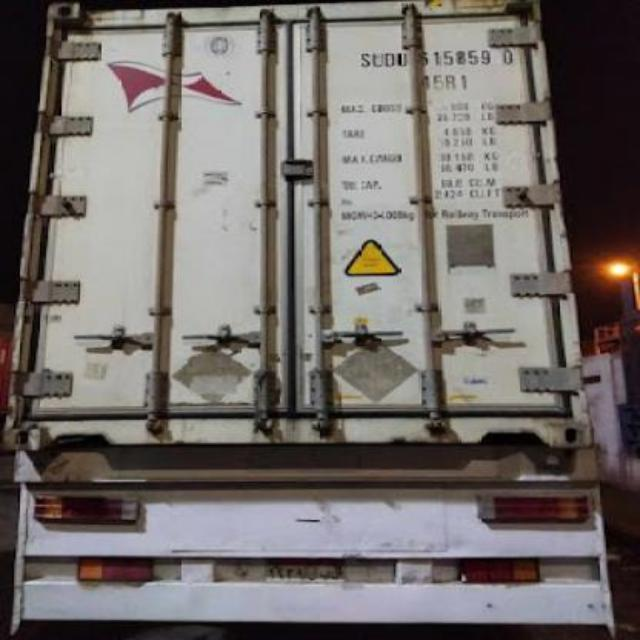0: (500, 49, 518, 65)
1: (430, 44, 442, 66)
5: (442, 46, 454, 70), (468, 47, 478, 67)
6: (420, 44, 430, 66)
8: (458, 44, 466, 70)
9: (480, 49, 496, 65)
D: (384, 50, 396, 66)
S: (352, 46, 372, 70)
U: (396, 49, 408, 69), (368, 51, 382, 67)
